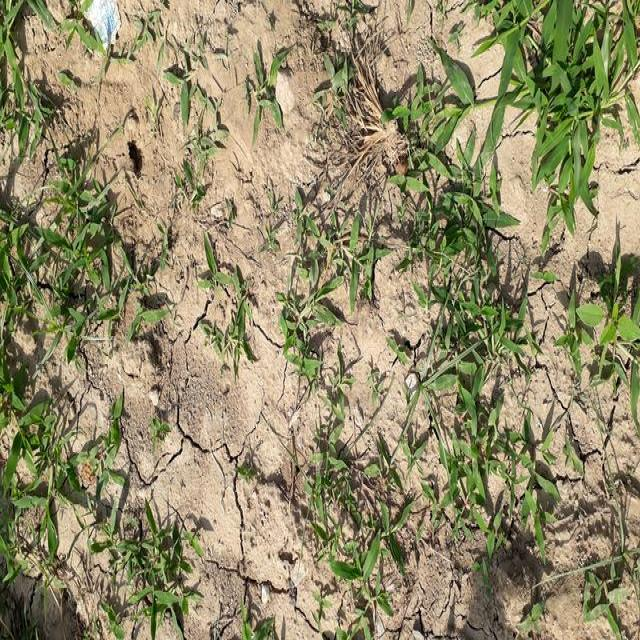weed: (0, 0, 154, 347), (0, 369, 189, 640), (463, 5, 640, 250), (424, 284, 556, 602)
